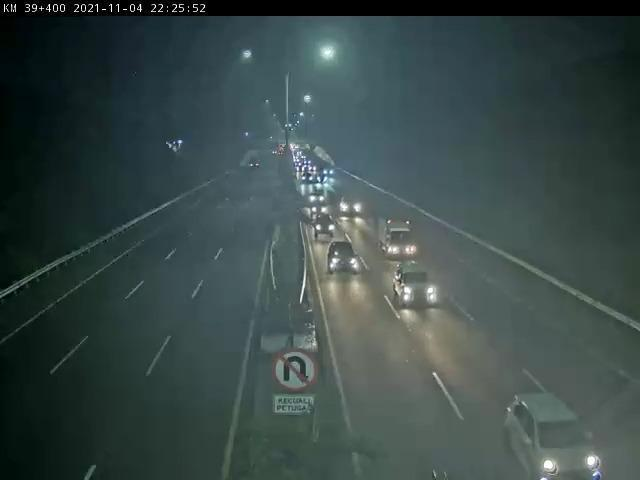car: (505, 390, 602, 480), (393, 262, 441, 308), (327, 239, 360, 276), (313, 215, 337, 240), (338, 197, 362, 218), (309, 199, 329, 219)
truck: (379, 216, 420, 263)
